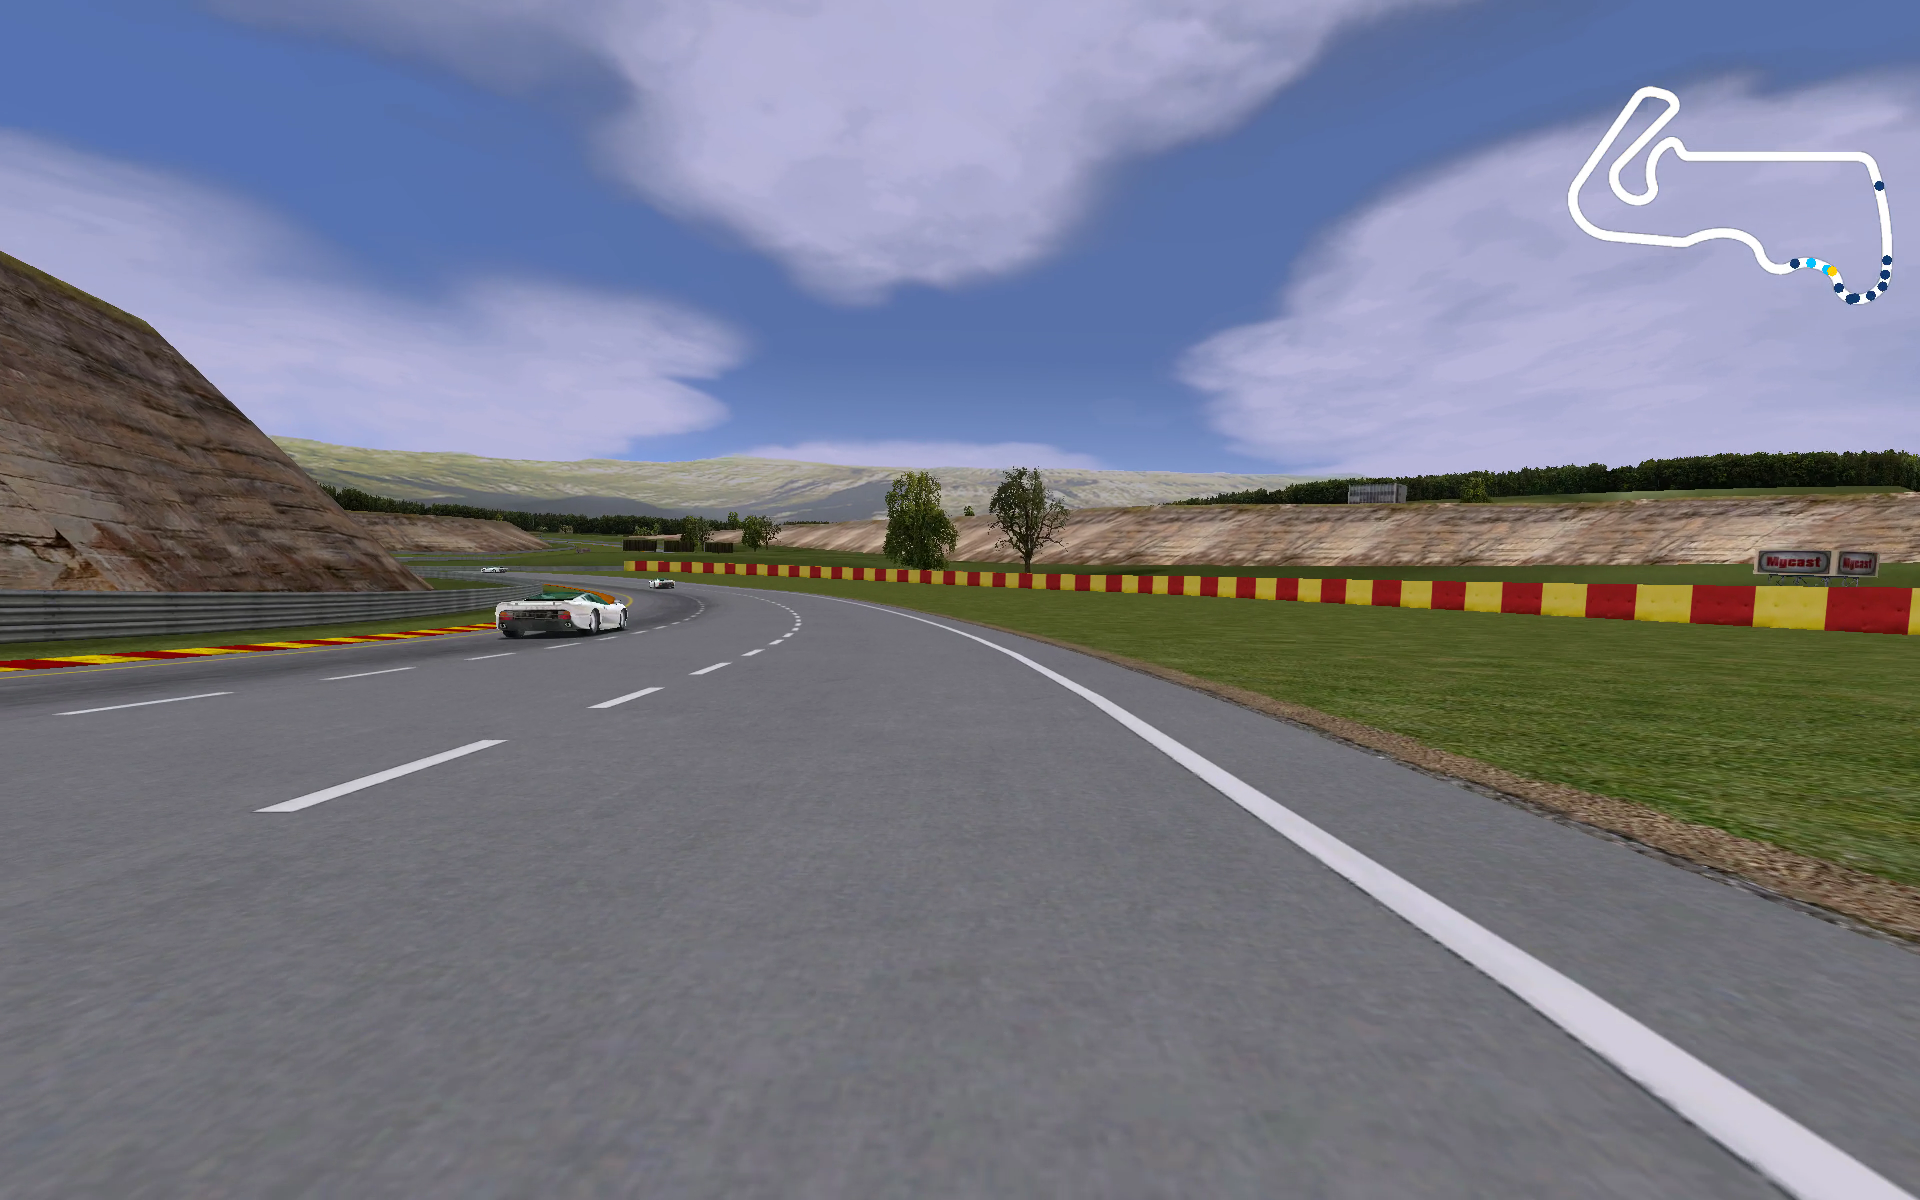car: (492, 588, 630, 641), (643, 576, 677, 594), (477, 563, 509, 575)
